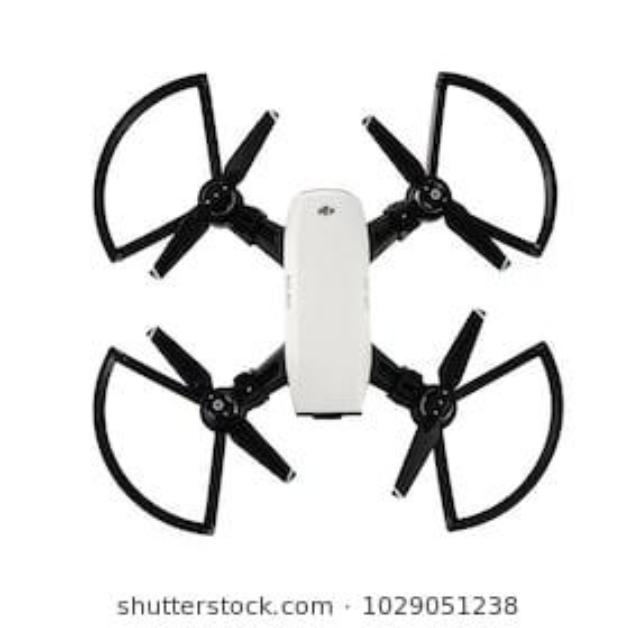drone: (0, 72, 640, 566)
